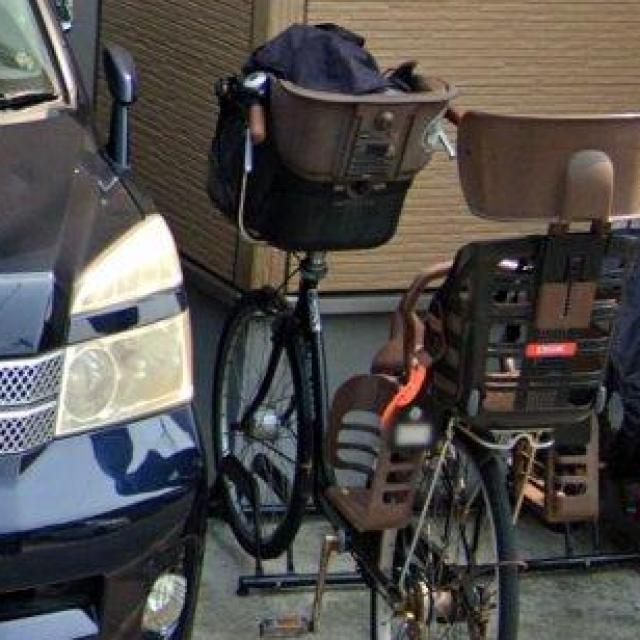bicycle: (211, 43, 627, 640)
